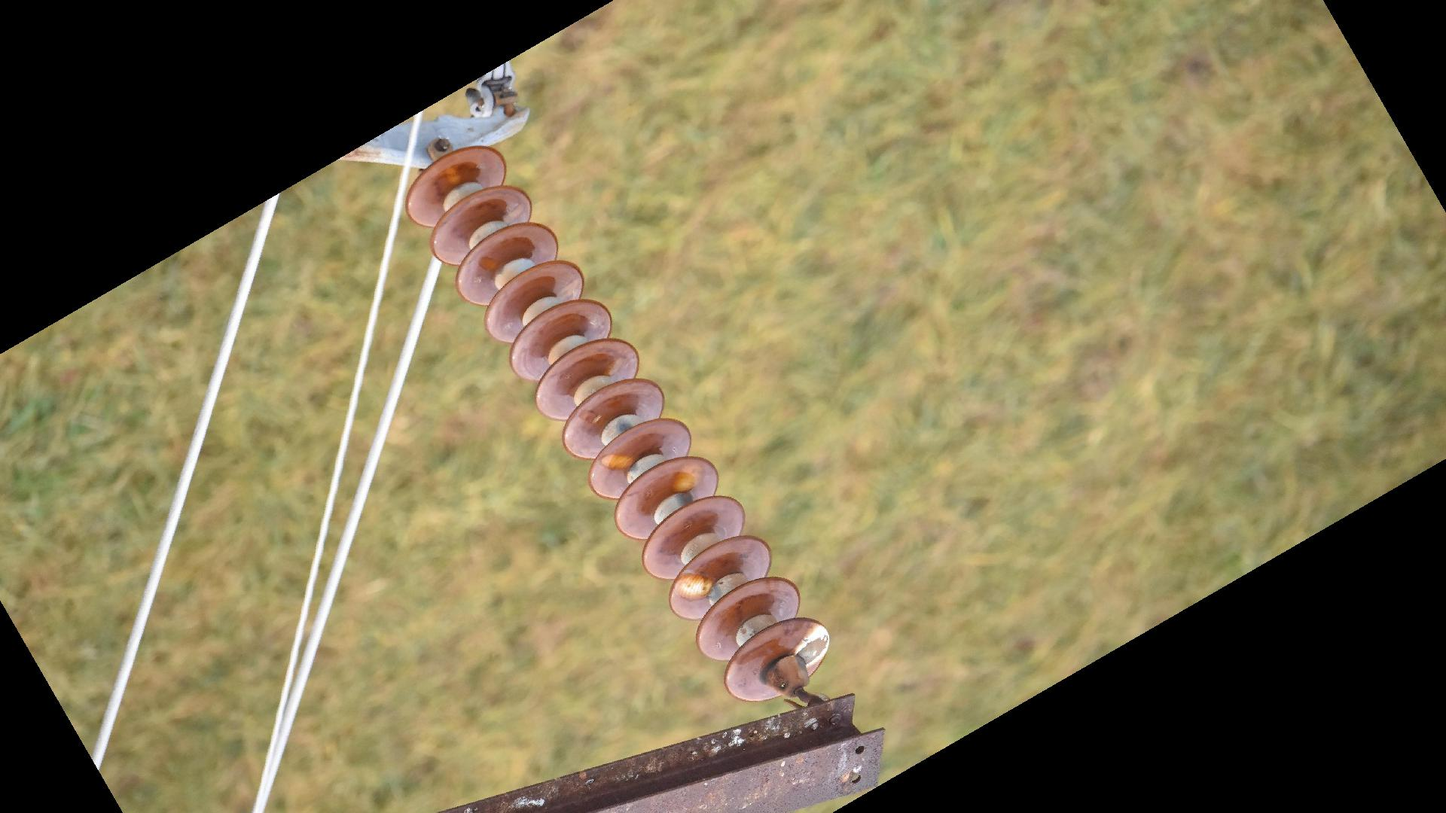insulator: (401, 142, 837, 707)
insulator_flashover: (793, 622, 831, 665), (669, 570, 716, 602), (670, 458, 706, 495), (599, 450, 638, 473)
